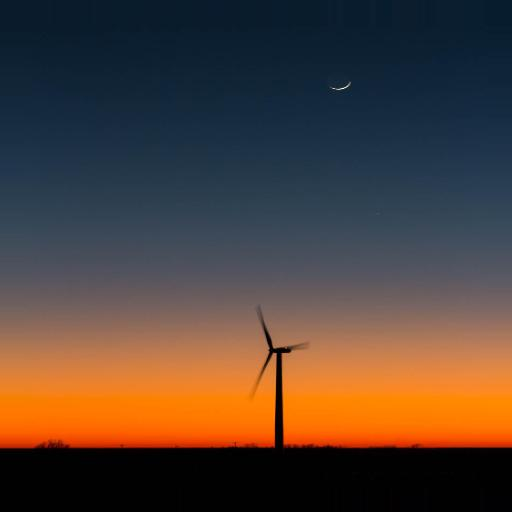wind turbine: (246, 301, 314, 447)
